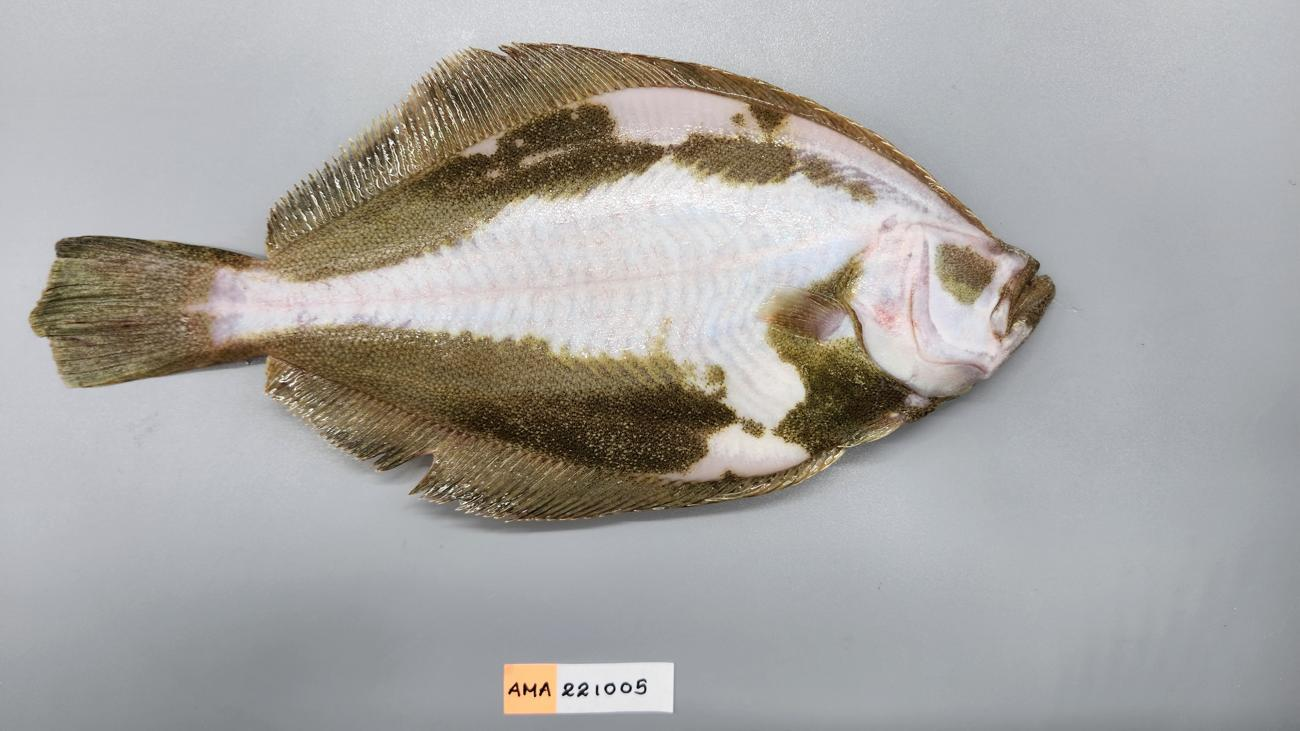MAFAH: (265, 359, 597, 478)
MAFDH: (420, 43, 687, 103), (706, 67, 845, 132)
MAOUY: (28, 44, 1058, 525)
